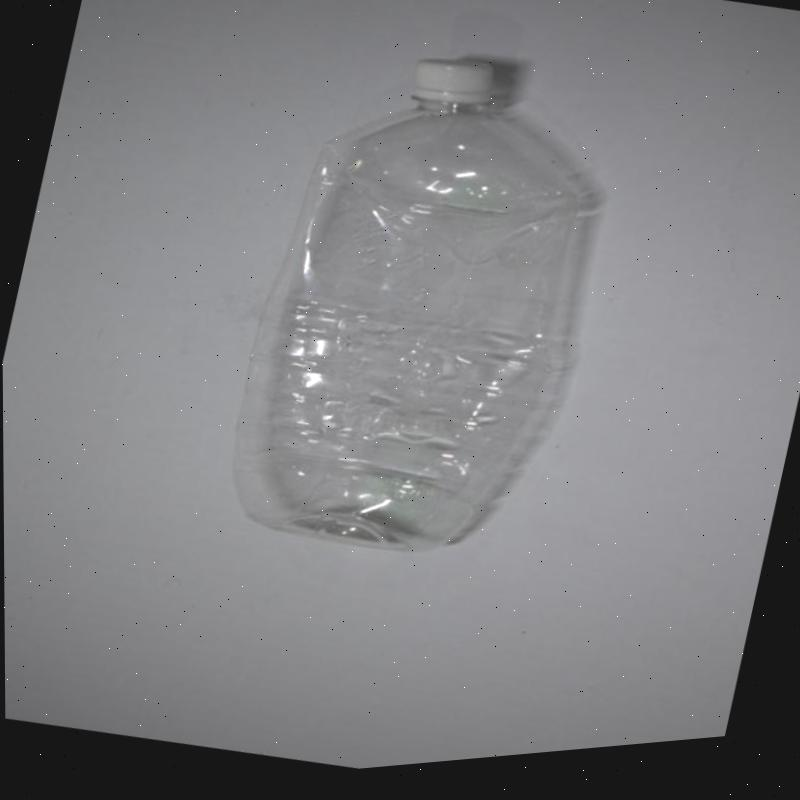botella: (204, 24, 639, 604)
